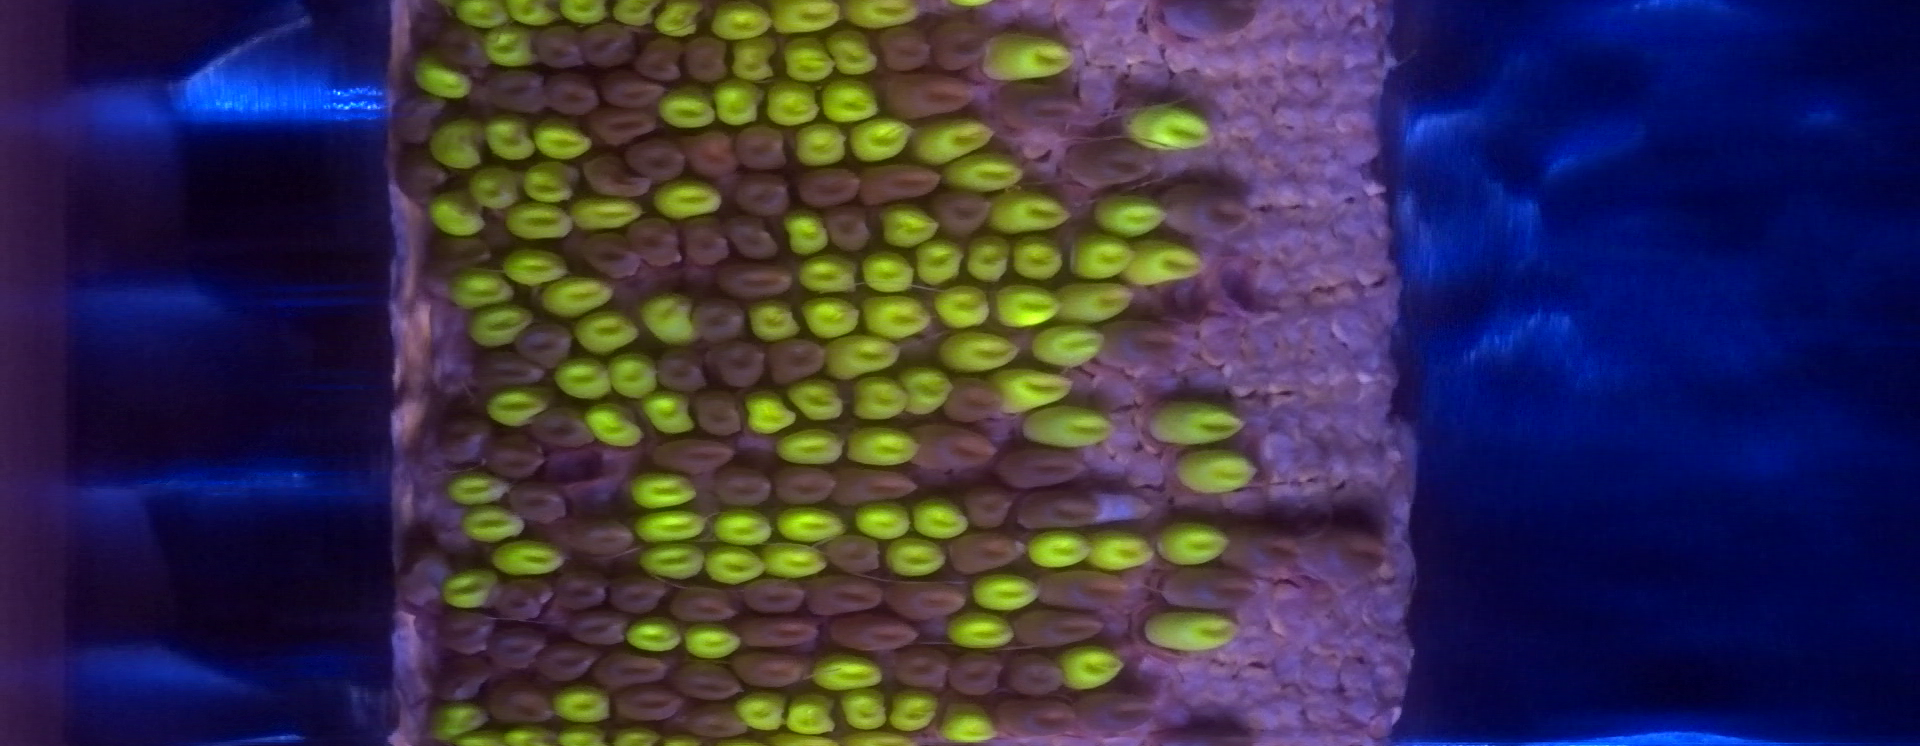fluorescent: (1116, 99, 1209, 151), (981, 33, 1069, 85), (1152, 397, 1244, 446), (1141, 608, 1237, 654), (913, 118, 997, 165), (1022, 403, 1109, 448), (1177, 445, 1255, 495), (994, 366, 1071, 409), (640, 287, 696, 345), (1125, 243, 1205, 282), (1030, 327, 1106, 366), (849, 425, 917, 468), (991, 192, 1065, 232), (1160, 522, 1227, 565), (827, 336, 898, 376), (426, 120, 482, 170), (1054, 284, 1134, 320), (411, 51, 470, 99), (491, 538, 560, 578), (1071, 235, 1131, 281), (467, 304, 531, 345), (994, 285, 1059, 327), (942, 332, 1013, 370), (740, 387, 791, 439), (587, 397, 637, 450), (801, 295, 856, 343), (1059, 648, 1120, 691), (851, 118, 905, 165), (576, 314, 636, 356), (571, 196, 640, 233), (934, 283, 989, 330), (940, 157, 1024, 187), (795, 254, 860, 293), (862, 298, 927, 337), (947, 611, 1011, 650), (876, 202, 938, 243), (1025, 529, 1087, 570), (852, 372, 904, 421), (507, 200, 571, 239), (765, 541, 830, 579), (971, 572, 1036, 610), (661, 86, 715, 131), (427, 191, 484, 234), (827, 73, 876, 122), (502, 246, 563, 285), (643, 390, 691, 440), (778, 209, 829, 256), (778, 507, 847, 541), (820, 34, 879, 75), (787, 379, 842, 421), (549, 359, 609, 398), (767, 81, 817, 127), (484, 115, 529, 167), (1089, 528, 1150, 566), (771, 1, 838, 36), (629, 469, 687, 508), (710, 4, 771, 40), (451, 269, 512, 306), (533, 115, 587, 157), (856, 500, 910, 541), (542, 278, 607, 312), (916, 500, 969, 541), (944, 702, 998, 742), (784, 37, 830, 83), (527, 159, 574, 205), (795, 122, 845, 165), (862, 249, 912, 292), (1097, 194, 1153, 232), (489, 386, 545, 424), (1015, 234, 1060, 281), (609, 352, 655, 397), (901, 363, 947, 409), (454, 510, 525, 539), (634, 514, 705, 544), (752, 299, 797, 344), (444, 572, 498, 610), (639, 545, 700, 578), (705, 549, 760, 586), (887, 543, 945, 577), (711, 82, 760, 122), (715, 510, 767, 548), (653, 187, 720, 216), (894, 688, 936, 734), (967, 235, 1007, 283), (778, 434, 838, 464), (442, 470, 504, 500), (553, 688, 609, 722), (471, 164, 516, 205), (913, 244, 959, 283), (812, 661, 874, 690), (653, 2, 705, 36), (624, 619, 677, 652), (487, 24, 530, 65), (787, 699, 835, 735), (847, 2, 916, 27), (684, 622, 733, 655), (736, 695, 782, 729), (431, 704, 479, 737), (731, 40, 771, 78), (842, 695, 887, 729), (452, 1, 507, 26), (503, 1, 553, 22), (612, 1, 658, 23), (561, 1, 606, 22)
nonfluorescent: (1298, 522, 1387, 584), (1153, 563, 1259, 612), (1163, 180, 1254, 236), (884, 69, 980, 119), (1063, 138, 1153, 189), (823, 611, 924, 653), (989, 82, 1082, 127), (1098, 318, 1178, 371), (913, 425, 994, 475), (1158, 1, 1261, 40), (1079, 690, 1160, 739), (1226, 524, 1296, 579), (1040, 570, 1127, 611), (1004, 450, 1087, 492), (994, 695, 1078, 737), (855, 163, 942, 203), (1013, 491, 1102, 530), (824, 465, 922, 501), (950, 532, 1022, 579), (579, 149, 649, 197), (1010, 608, 1100, 644), (887, 582, 962, 624), (389, 143, 441, 205), (719, 209, 781, 258), (676, 127, 740, 175), (580, 228, 639, 279), (718, 260, 793, 299), (514, 320, 571, 371), (591, 650, 676, 685), (733, 650, 807, 690), (733, 121, 789, 173), (945, 371, 1004, 419), (436, 21, 487, 75), (493, 575, 549, 625), (583, 21, 636, 72), (562, 517, 636, 554), (536, 636, 594, 682), (947, 650, 1004, 697), (1003, 653, 1069, 693), (667, 586, 742, 621), (804, 577, 882, 611), (438, 608, 493, 655), (647, 439, 736, 468), (490, 680, 551, 723), (678, 659, 740, 702), (878, 22, 931, 71), (531, 23, 585, 71), (598, 72, 667, 109), (680, 702, 749, 739), (797, 167, 862, 206), (738, 619, 818, 650), (489, 69, 547, 111), (615, 684, 681, 722), (820, 205, 874, 251), (626, 137, 686, 179), (530, 405, 590, 447), (680, 36, 726, 88), (389, 96, 442, 142), (550, 570, 609, 611), (827, 532, 880, 577), (471, 352, 542, 386), (634, 32, 682, 82), (960, 483, 1010, 530), (936, 18, 981, 71), (609, 572, 662, 616), (744, 579, 804, 619), (435, 418, 484, 465), (634, 217, 680, 268), (715, 342, 767, 387), (767, 341, 828, 379), (678, 214, 722, 267), (422, 235, 490, 269), (936, 194, 989, 236), (694, 390, 742, 437), (733, 173, 793, 211), (508, 483, 568, 521), (654, 347, 710, 387), (489, 437, 540, 481), (898, 650, 949, 695), (588, 108, 658, 140), (774, 469, 834, 505), (433, 659, 489, 697), (546, 72, 598, 111), (571, 611, 629, 646), (694, 299, 746, 337), (495, 627, 542, 668), (722, 469, 774, 506)
